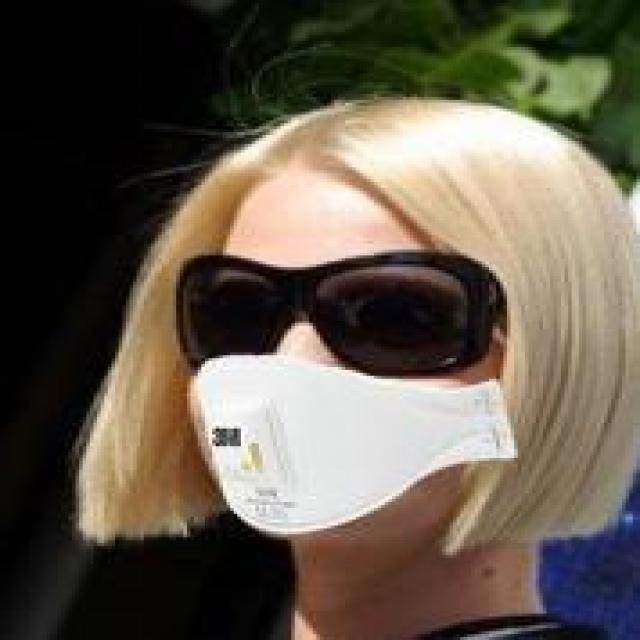mask: (180, 64, 597, 566)
